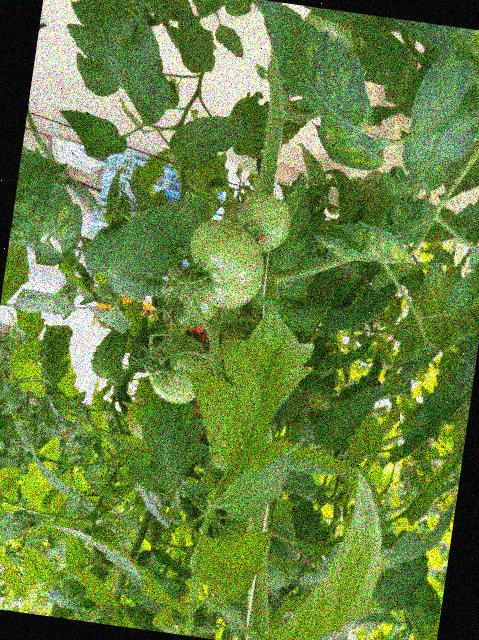b_green: (182, 215, 270, 314), (144, 330, 215, 408), (299, 6, 385, 69), (232, 190, 294, 256), (160, 269, 224, 332)
